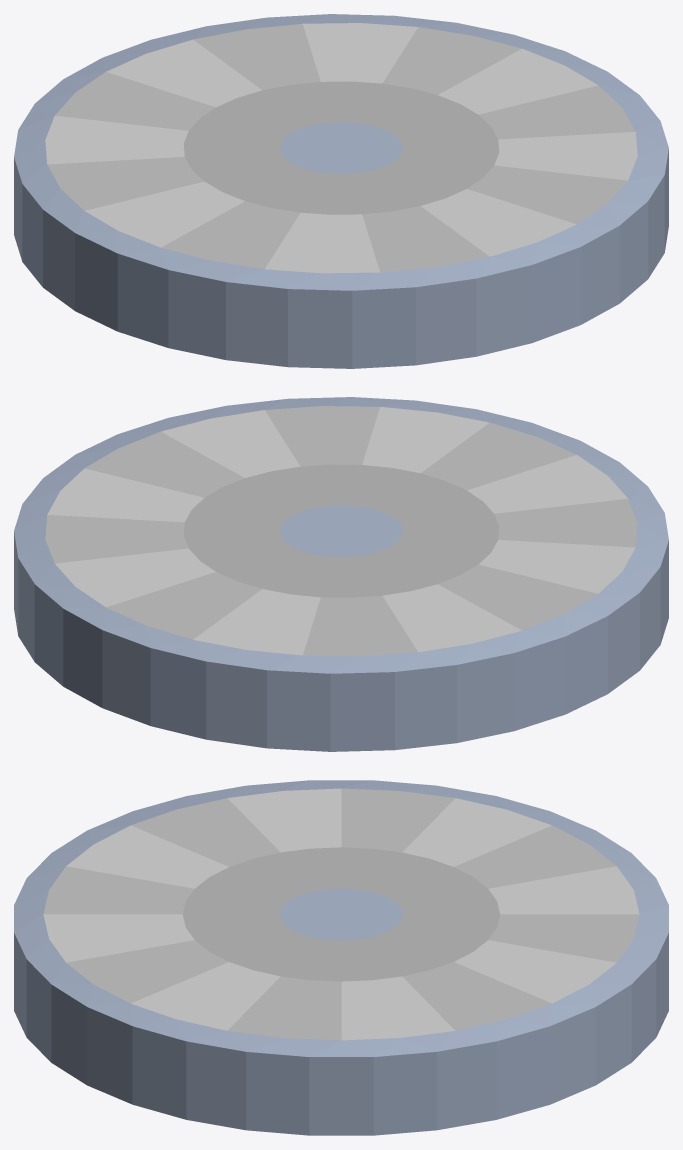
File: plankton_cylinder.fbx
3 renders of one model, top to bottom at view 1: azimuth 30°, elevation 25°; view 2: azimuth 150°, elevation 25°; view 3: azimuth 270°, elevation 25°, orthographic.
Visible parts, largest first — view 1: Cylinder; view 2: Cylinder; view 3: Cylinder.
Boxes of the visible parts, x1,y1,x2,y2 form: Cylinder: [14, 14, 668, 368]; Cylinder: [14, 397, 668, 751]; Cylinder: [14, 780, 668, 1135].
Bounding box in the file's own units: 2.83 × 0.4151 × 2.83.
